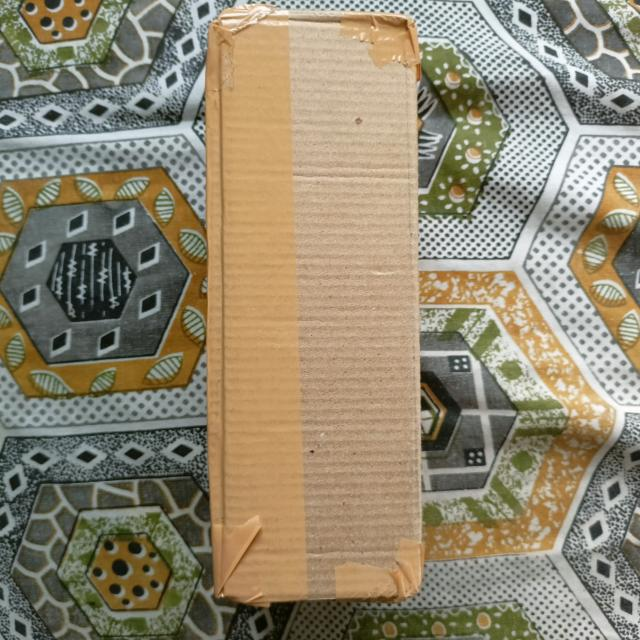box: (210, 22, 421, 592)
